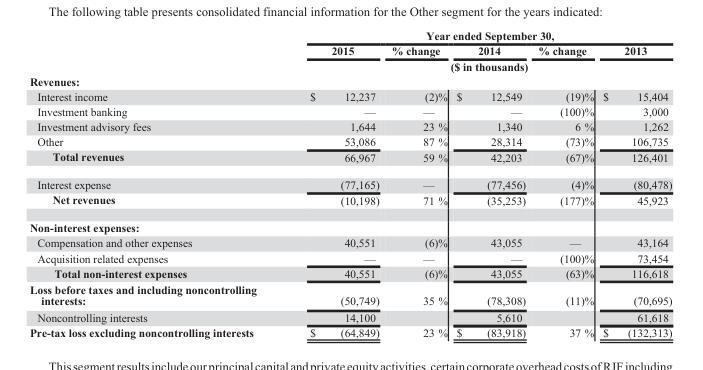table: (28, 29, 671, 338)
table column: (28, 29, 282, 338), (282, 29, 384, 338), (451, 29, 531, 338), (597, 29, 671, 338), (384, 29, 451, 338), (531, 29, 597, 338)
table column header: (28, 29, 671, 73)
table projected row header: (28, 213, 671, 234), (28, 73, 671, 88)
table row: (28, 281, 671, 308), (28, 170, 671, 192), (28, 149, 671, 170), (28, 192, 671, 213), (28, 213, 671, 234), (28, 42, 671, 58), (28, 118, 671, 134), (28, 234, 671, 250), (28, 265, 671, 281), (28, 308, 671, 324), (28, 58, 671, 73), (28, 73, 671, 88), (28, 88, 671, 103), (28, 103, 671, 118), (28, 134, 671, 149), (28, 250, 671, 265), (28, 324, 671, 338), (28, 29, 671, 42)
table spanning cell: (282, 58, 671, 73), (282, 29, 671, 42)
